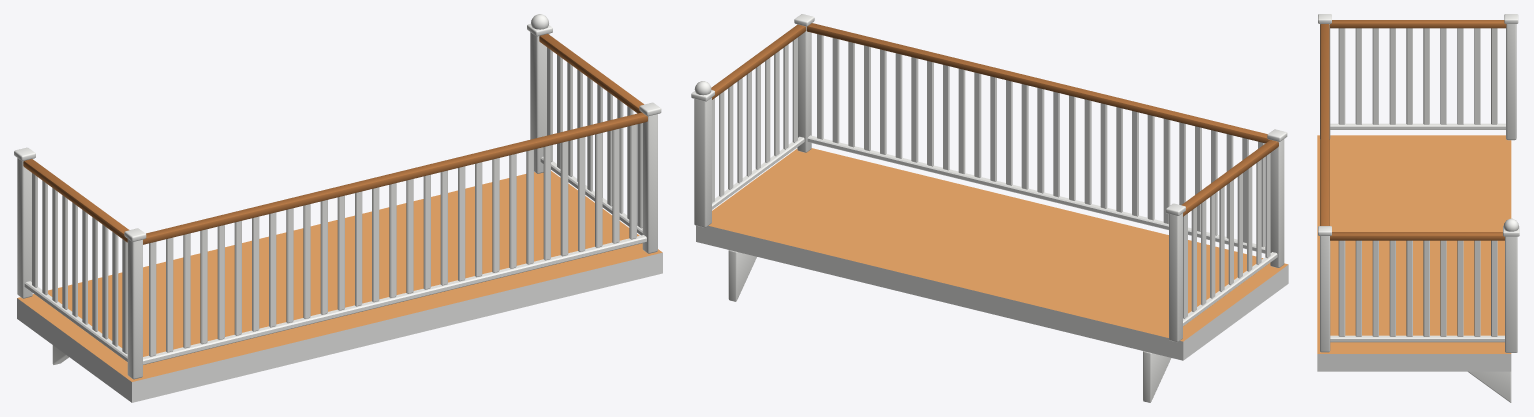
The model's file is sacada_4x1_5m_madeira.glb.
3 views of the same model, side by side, from view 1: azimuth 30°, elevation 25°; view 2: azimuth 150°, elevation 25°; view 3: azimuth 270°, elevation 25° (orthographic). The views are drawn at different scales.
Visible parts, largest first — view 1: sacada_4x1_5m_madeira; view 2: sacada_4x1_5m_madeira; view 3: sacada_4x1_5m_madeira.
Part boxes in pixels (<box>): sacada_4x1_5m_madeira: <box>14,14,662,402</box>; sacada_4x1_5m_madeira: <box>691,14,1288,402</box>; sacada_4x1_5m_madeira: <box>1317,14,1519,402</box>.
Size of the model in its own units: 4.01 by 1.67 by 1.57.
3 materials, 1 textured.
